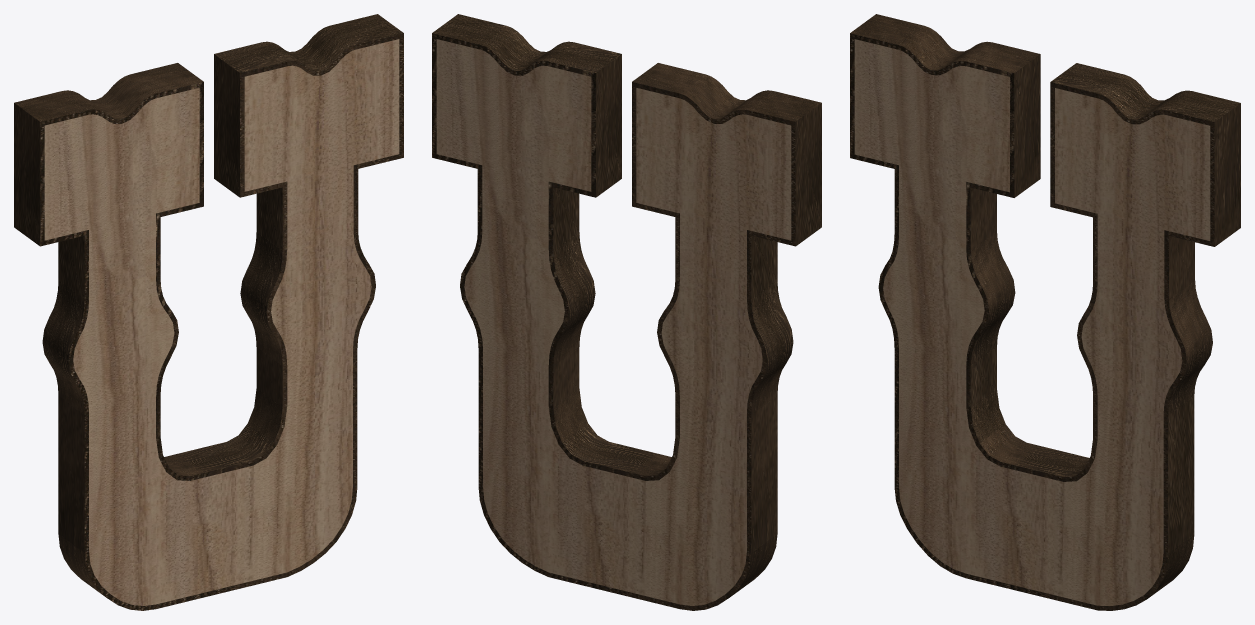
3 views of the same model, side by side, from view 1: azimuth 30°, elevation 25°; view 2: azimuth 150°, elevation 25°; view 3: azimuth 330°, elevation 25° (orthographic).
Parts seen in each view (by area): view 1: U, U_outline; view 2: U, U_outline; view 3: U, U_outline.
Boxes of the visible parts, x1,y1,x2,y2 form: U: [44, 39, 399, 605]; U_outline: [14, 14, 403, 610]; U: [436, 39, 791, 605]; U_outline: [432, 14, 821, 610]; U: [854, 39, 1210, 605]; U_outline: [850, 14, 1240, 610].
Size of the model in its own units: 80.34 by 109 by 10.
Materials: 2 (2 with a texture image).
